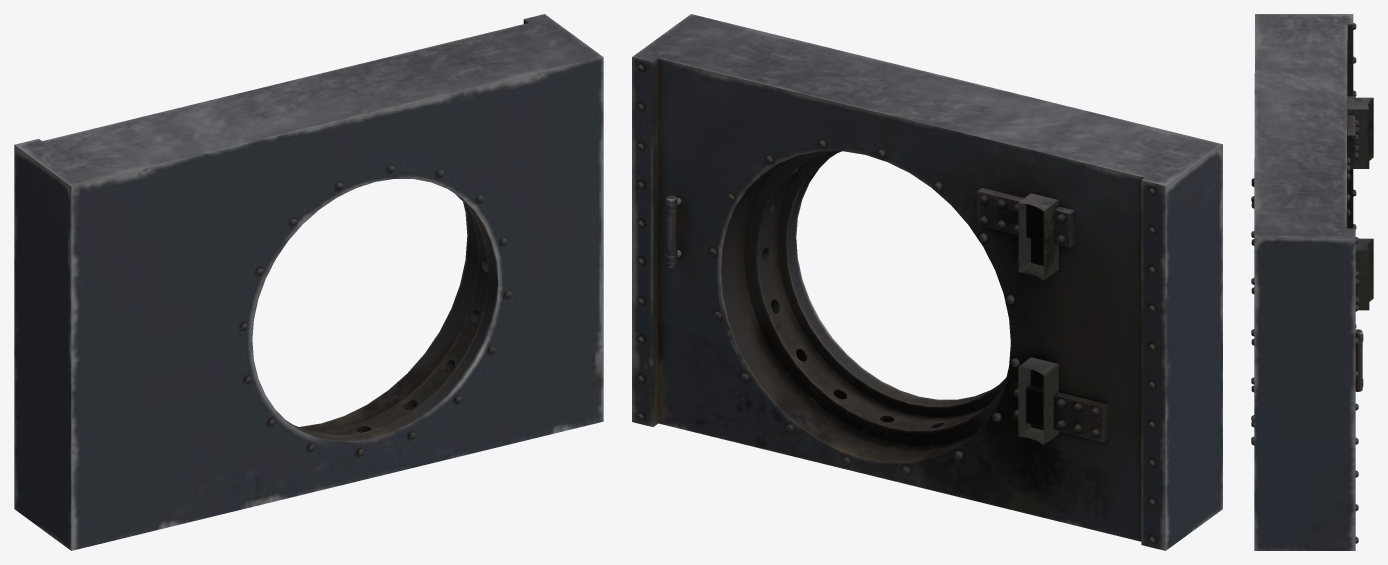
Rendered from vault_door_frame.glb.
3 renders of one model, left to right at view 1: azimuth 30°, elevation 25°; view 2: azimuth 150°, elevation 25°; view 3: azimuth 270°, elevation 25°, orthographic. The views are drawn at different scales.
Parts seen in each view (by area): view 1: Object_6, Object_7; view 2: Object_6, Object_5, Object_3, Object_8; view 3: Object_6, Object_8, Object_7, Object_5, Object_3.
Part boxes in pixels (x1=…): Object_6: x1=14, y1=14, x2=603, y2=550; Object_7: x1=240, y1=164, x2=511, y2=455; Object_6: x1=632, y1=14, x2=1222, y2=550; Object_5: x1=637, y1=64, x2=1099, y2=474; Object_3: x1=765, y1=155, x2=1156, y2=544; Object_8: x1=665, y1=139, x2=827, y2=268; Object_6: x1=1254, y1=14, x2=1373, y2=550; Object_8: x1=1347, y1=194, x2=1363, y2=391; Object_7: x1=1251, y1=178, x2=1254, y2=445; Object_5: x1=1347, y1=164, x2=1358, y2=543; Object_3: x1=1347, y1=23, x2=1358, y2=328.
Bounding box in the file's own units: 3.97 × 2.6 × 0.9204.
Materials: 1 (1 with a texture image).
